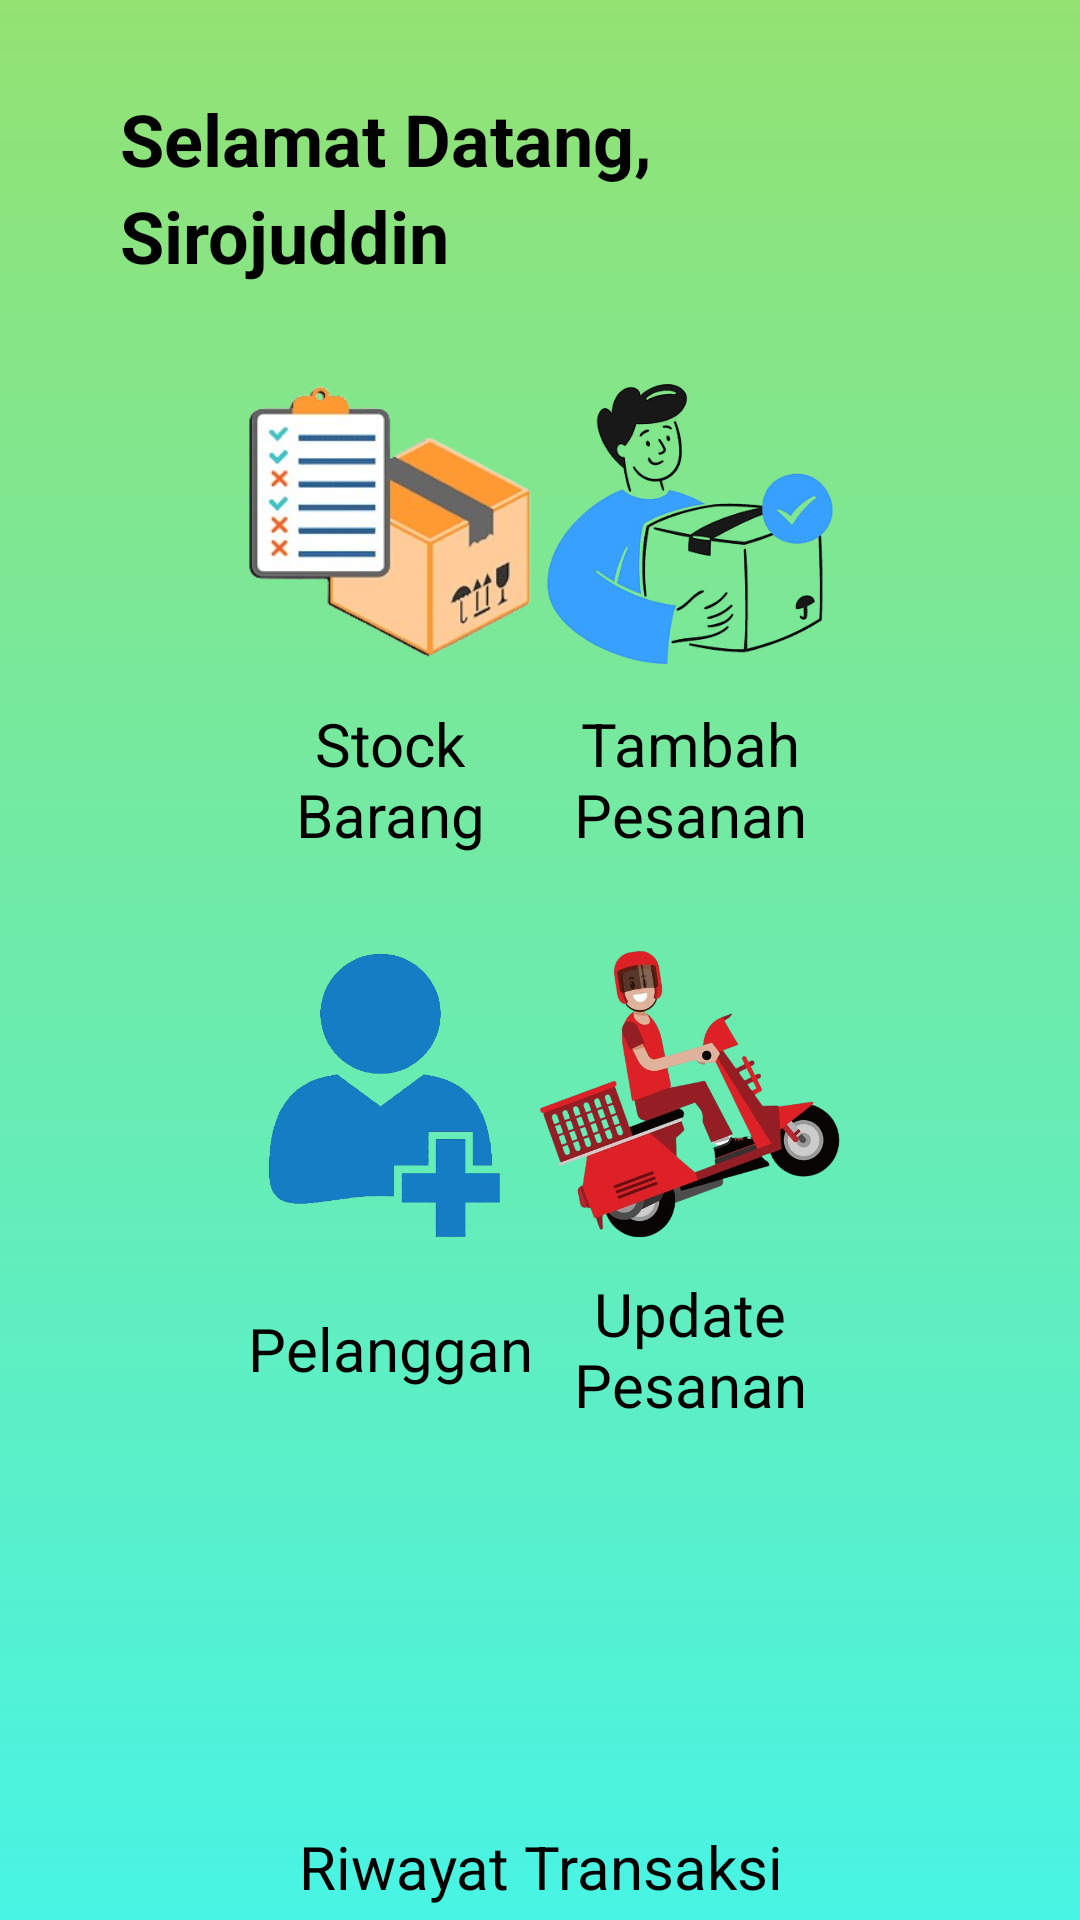

Screen size 1080 x 1920. Icon name, then its box in pixels as (x1, y1, x2, y2):
delivery: (540, 951, 840, 1237)
person: (269, 953, 500, 1237)
